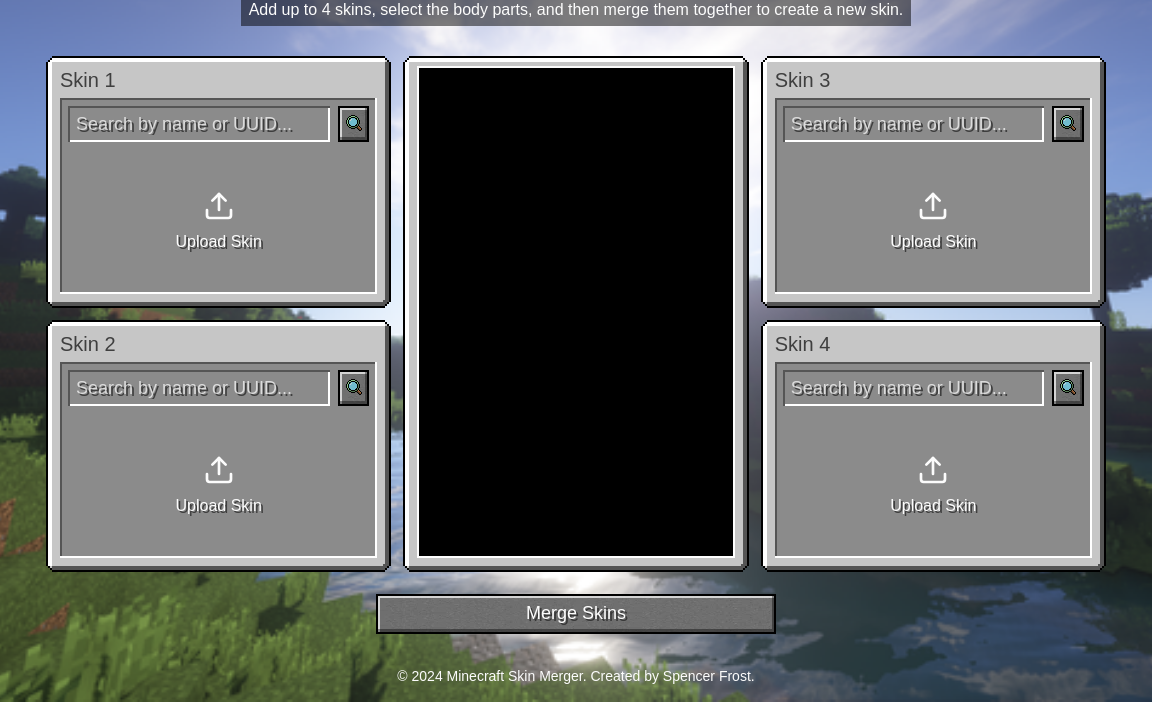
Scenario: MinecraftSkinMerger › displays error message when merge fails
(page scrolled)
Click the button with test id "merge-skins-button" at (576, 614), box [376,594,776,634]
(page scrolled)
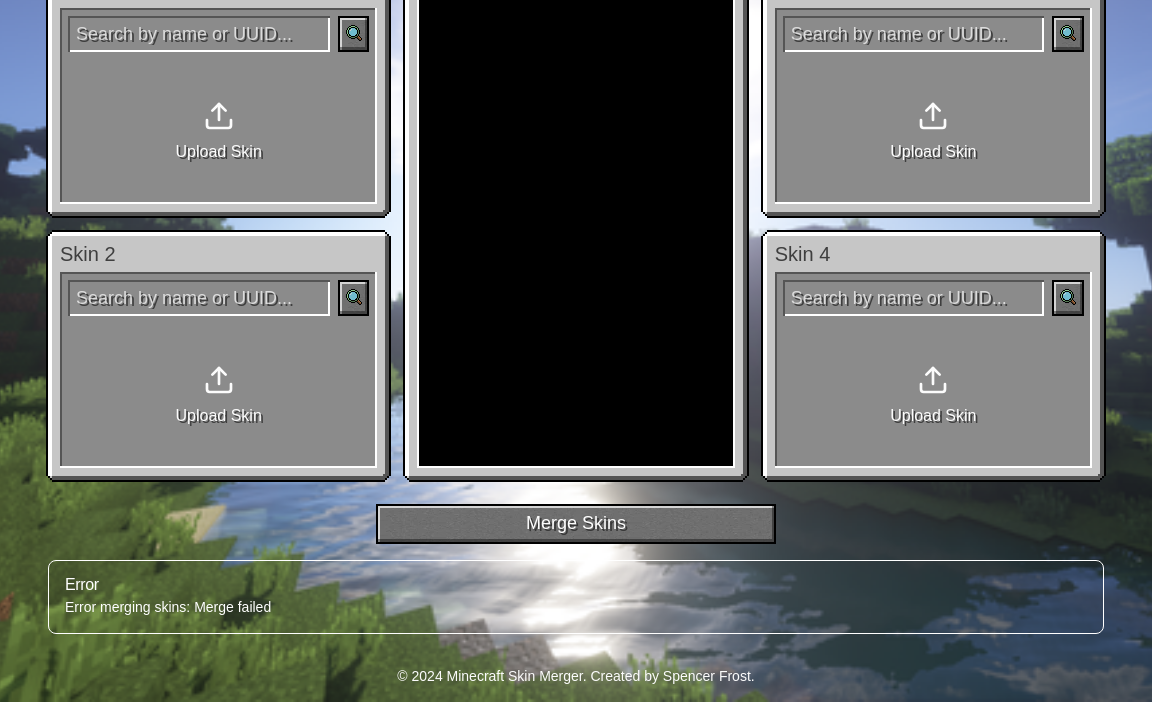
Now the text "Error merging skins: Merge failed" is shown, box [65,599,271,615]
